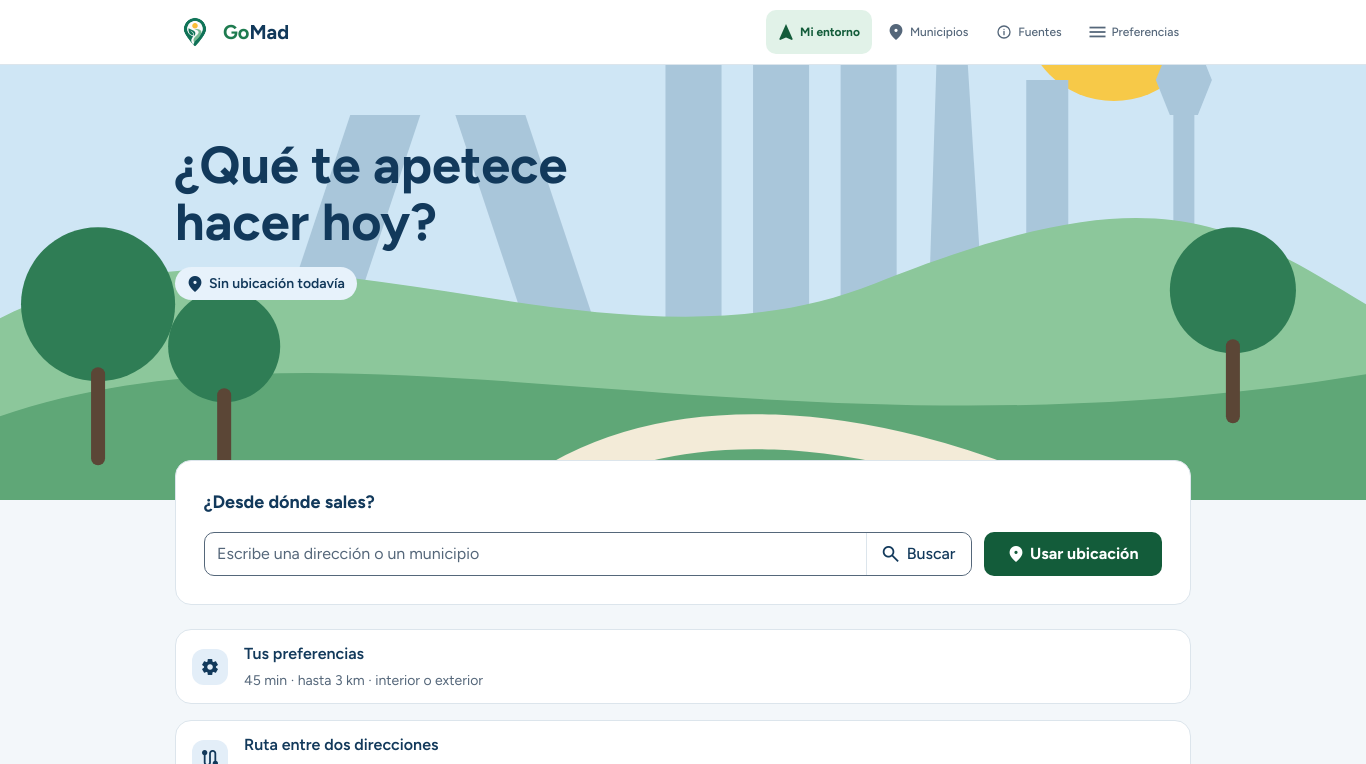
Test: Inicio › si el GPS se deniega lo explica y deja escribir la dirección
This screenshot has width=1366, height=764.
Click the button with aria-label "Usar mi ubicación".
click(1073, 554)  # box [984, 532, 1162, 576]
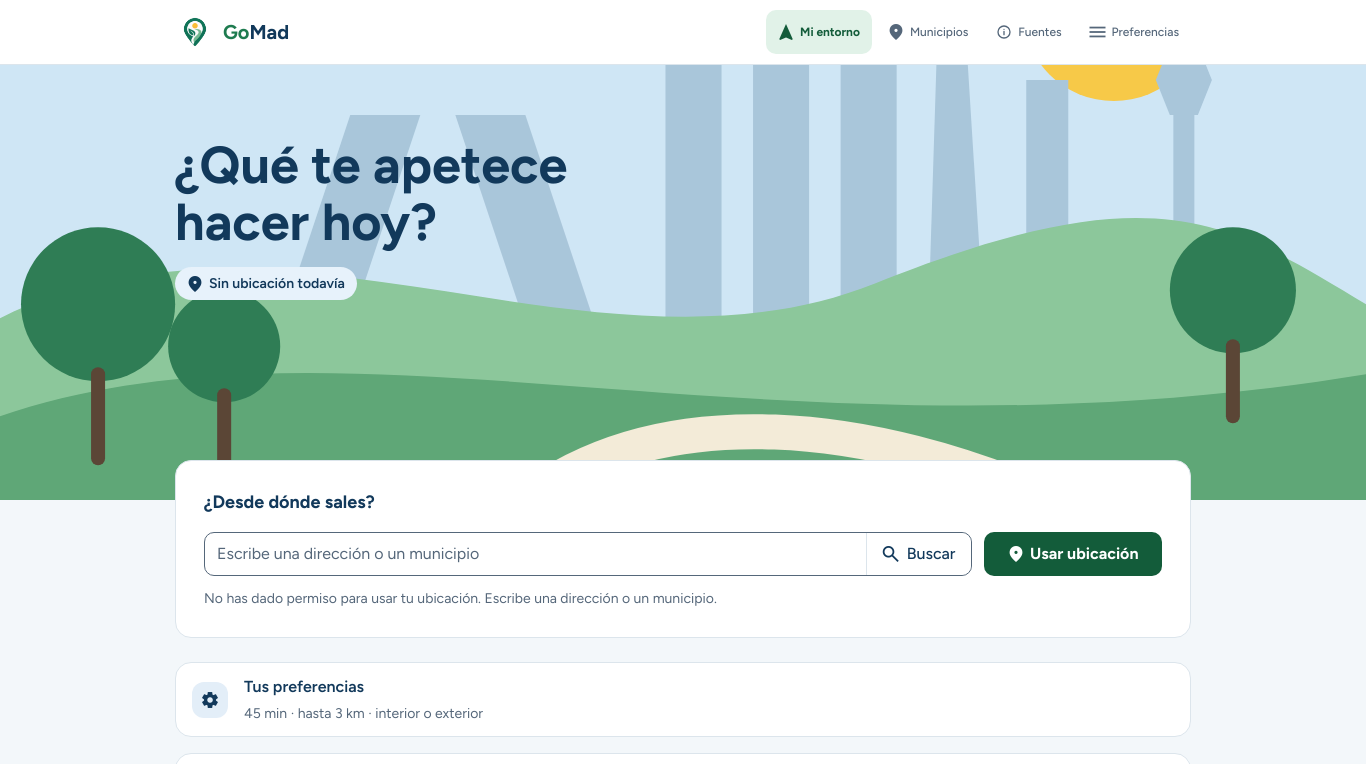
Expected: the field labelled "Escribe una dirección o un municipio" is enabled, [205, 533, 866, 575]
Expected: the text "No has dado permiso para usar tu ubicación" is shown, [204, 590, 717, 607]
